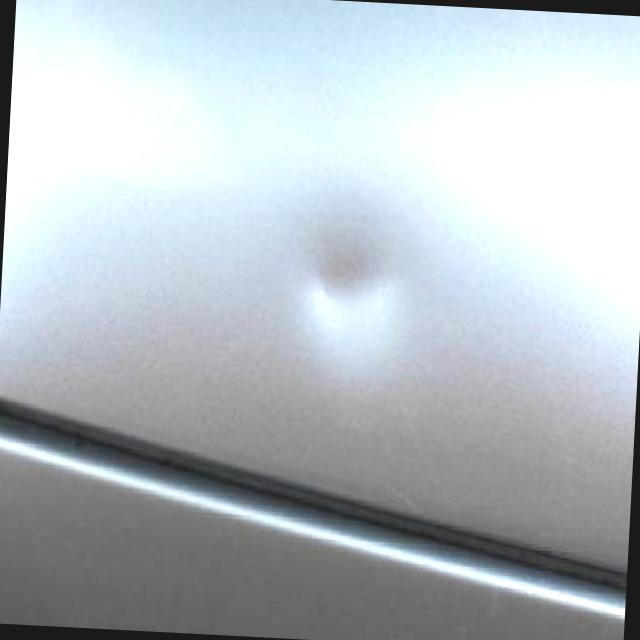dent: (282, 212, 390, 314)
